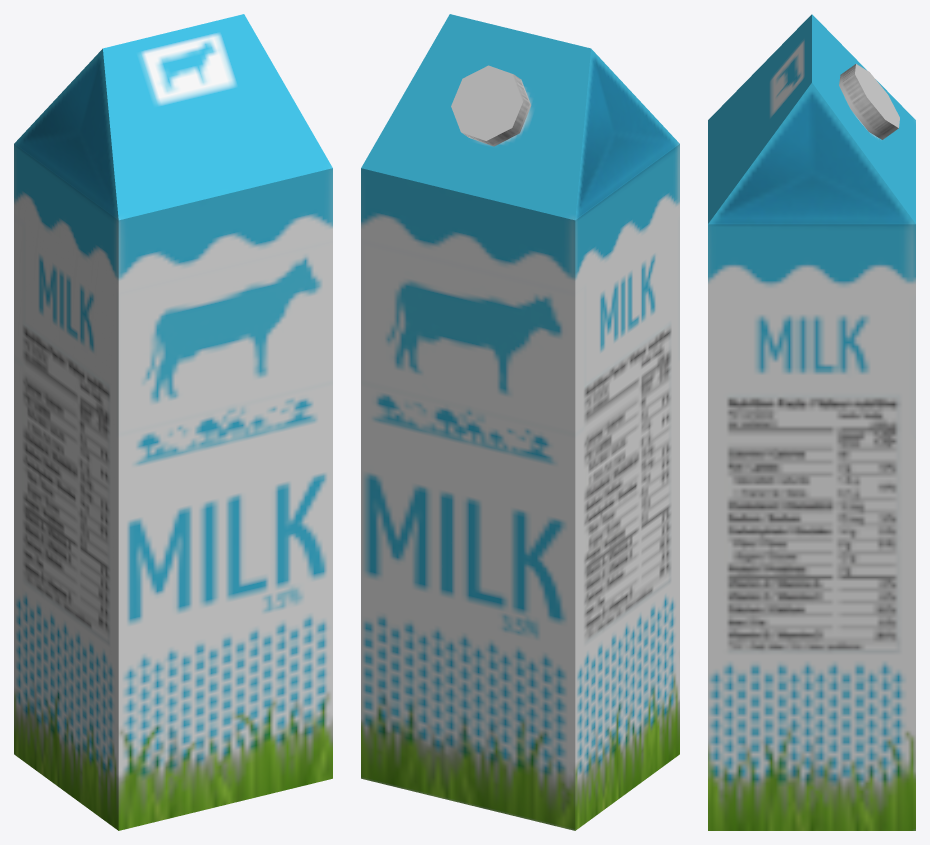
Rendered from Product_milk.FBX.
3 views of the same model, side by side, from view 1: azimuth 30°, elevation 25°; view 2: azimuth 150°, elevation 25°; view 3: azimuth 270°, elevation 25° (orthographic).
Parts seen in each view (by area): view 1: product_milk_LOD00; view 2: product_milk_LOD00; view 3: product_milk_LOD00.
Boxes of the visible parts, x1,y1,x2,y2 form: product_milk_LOD00: [14, 14, 332, 830]; product_milk_LOD00: [361, 14, 679, 830]; product_milk_LOD00: [708, 14, 915, 830].
Size of what is drawn, in the model's own units: 0.0623 by 0.2043 by 0.0527.
